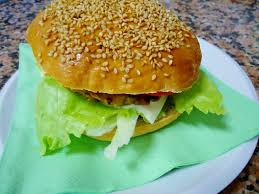hamburger: (24, 2, 232, 155)
